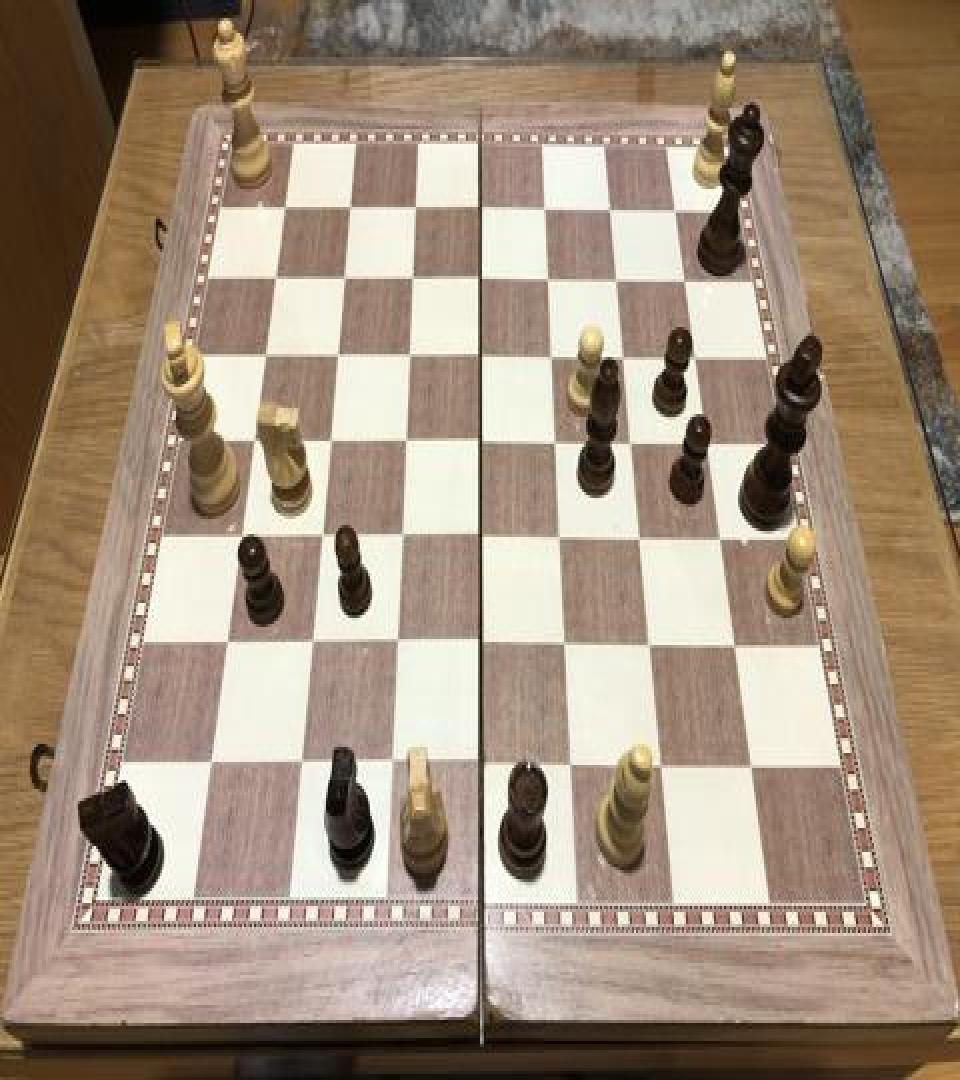xcorner: (389, 520, 413, 557), (309, 520, 333, 557), (214, 625, 238, 662), (559, 748, 583, 785), (469, 748, 493, 785), (378, 748, 402, 785), (665, 196, 689, 232), (600, 195, 624, 231), (534, 195, 558, 231), (469, 194, 493, 230), (404, 192, 428, 228), (339, 192, 363, 228), (273, 190, 297, 226), (674, 266, 698, 302), (606, 266, 630, 302), (538, 264, 562, 300), (469, 264, 493, 300), (401, 262, 425, 298), (332, 262, 356, 298), (264, 261, 288, 297), (613, 342, 637, 378), (541, 342, 565, 378), (469, 340, 493, 376), (397, 340, 421, 376), (325, 339, 349, 375), (253, 339, 277, 375), (696, 429, 720, 465), (620, 428, 644, 464), (545, 428, 569, 464), (469, 426, 493, 462), (393, 426, 417, 462), (317, 424, 341, 460), (241, 424, 265, 460), (709, 524, 733, 560), (629, 524, 653, 560), (549, 522, 573, 558), (469, 522, 493, 558), (228, 519, 252, 555), (723, 630, 747, 666), (638, 630, 662, 666), (554, 628, 578, 664), (469, 628, 493, 664), (384, 627, 408, 663), (299, 627, 323, 663), (739, 750, 763, 786), (649, 750, 673, 786), (288, 747, 312, 783), (197, 747, 221, 783), (684, 344, 708, 379)
